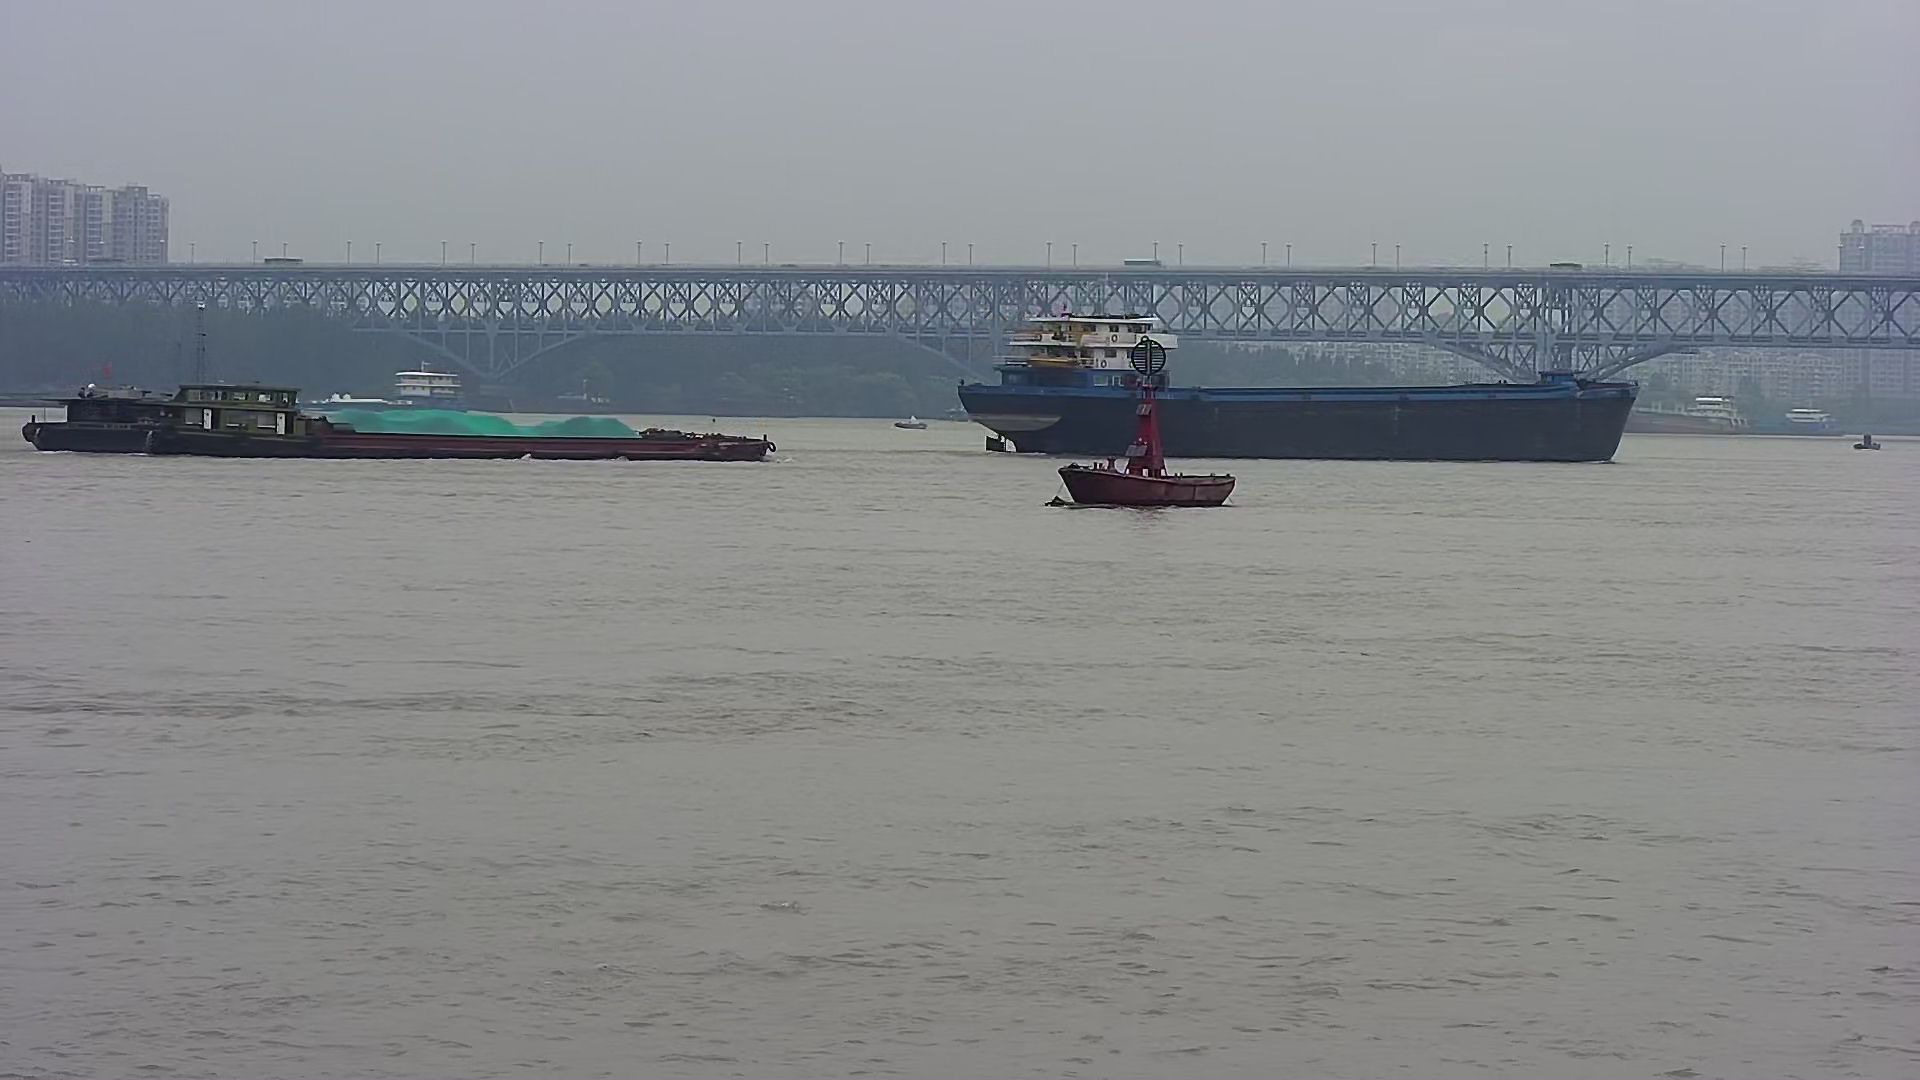boat: (1042, 335, 1266, 516), (878, 407, 948, 439), (1836, 419, 1886, 458)
bridge: (1, 239, 1908, 446)
ship: (17, 332, 794, 465), (298, 353, 488, 414), (1613, 385, 1768, 444)
